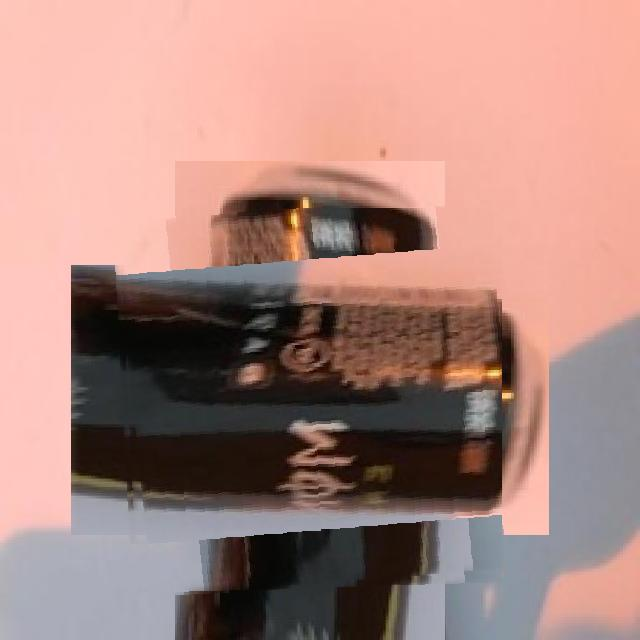recyclable: (118, 208, 502, 593)
